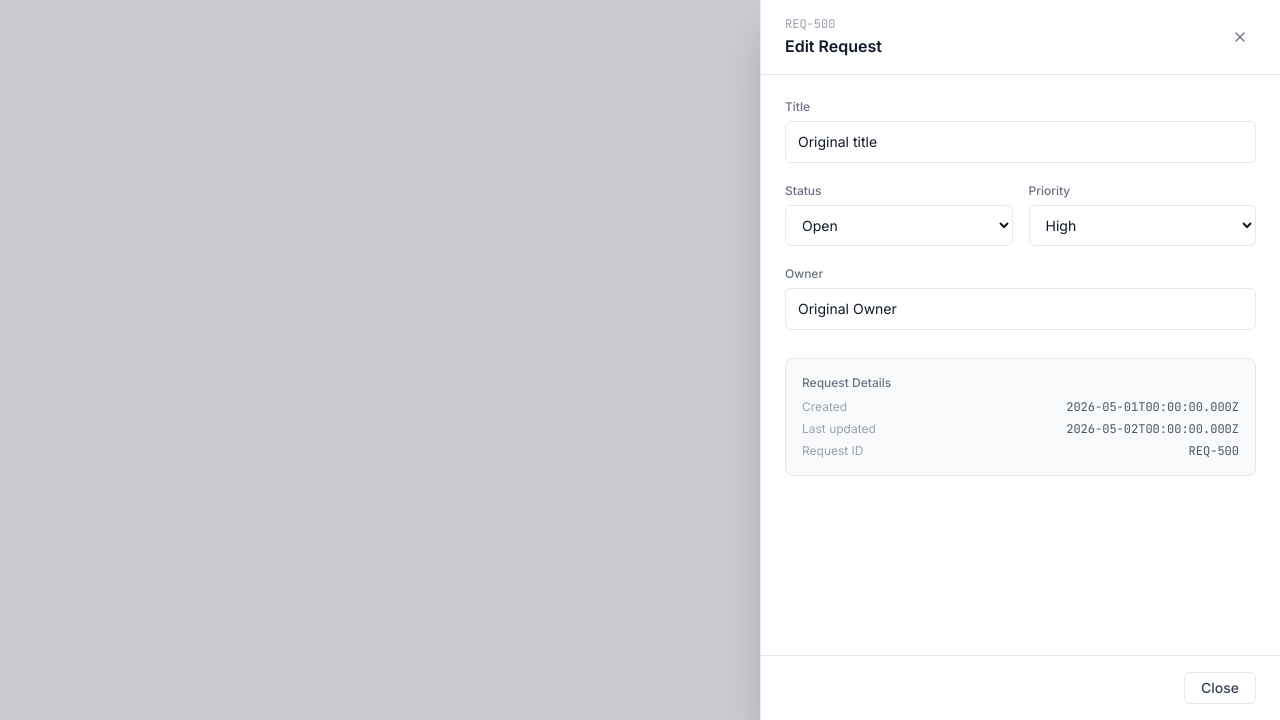
Test case: EditDrawer close guards › asks for confirmation instead of closing when dirty
Replace the text in the field labelled "Title" with "New title". click: (1020, 142)
box: [785,121,1256,163]
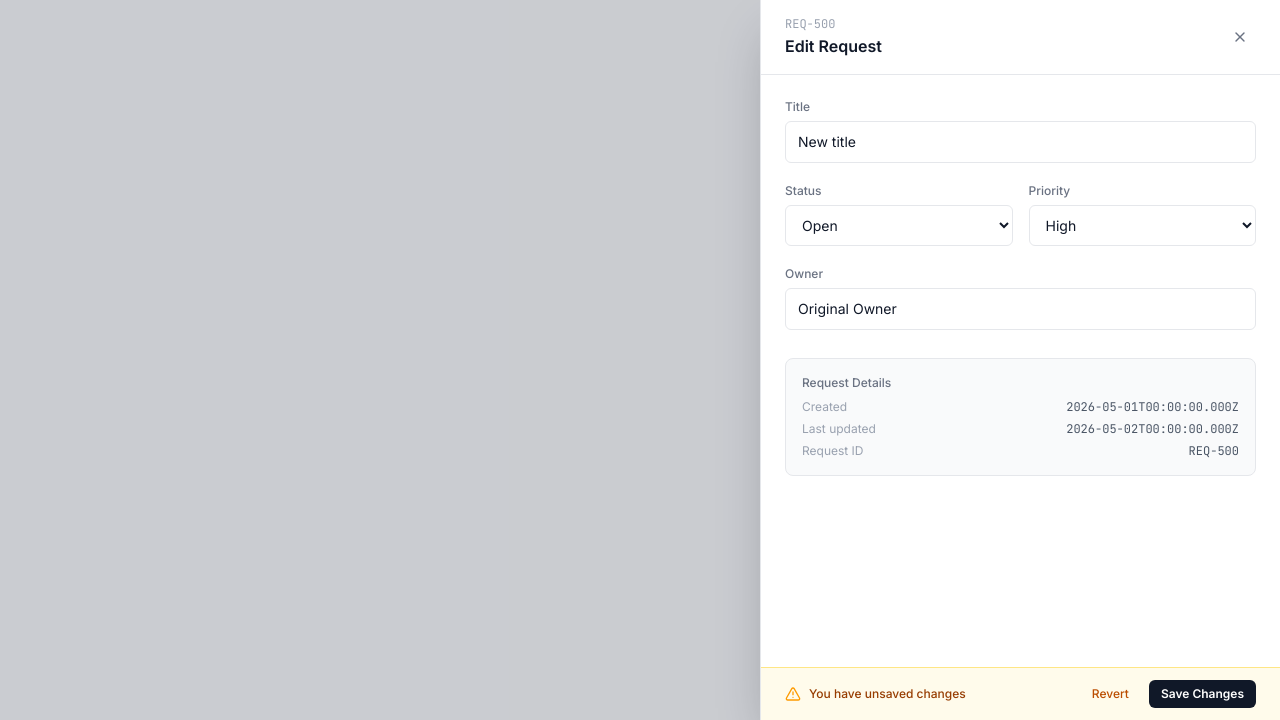
Click the button named "Close drawer". click: (1240, 37)
box: [1224,21,1256,53]
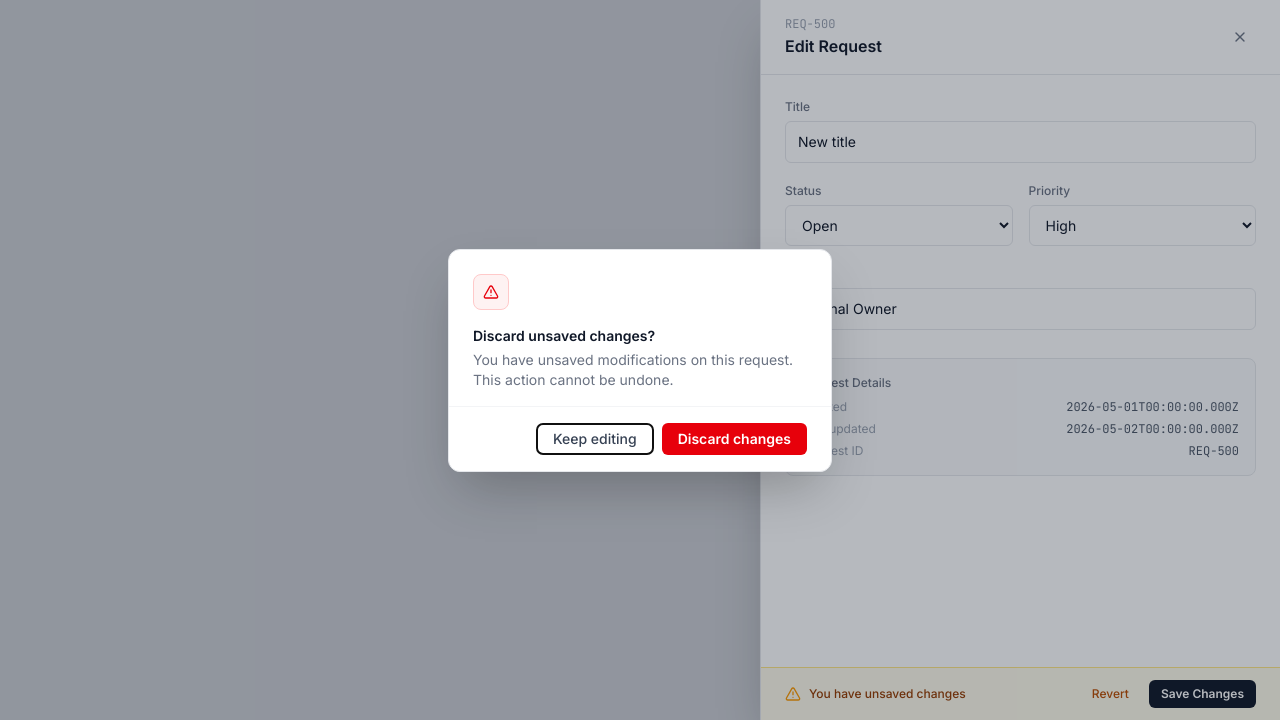
Now the dialog that starts with "Discard unsaved changes?" is shown, box [448,248,832,472]
